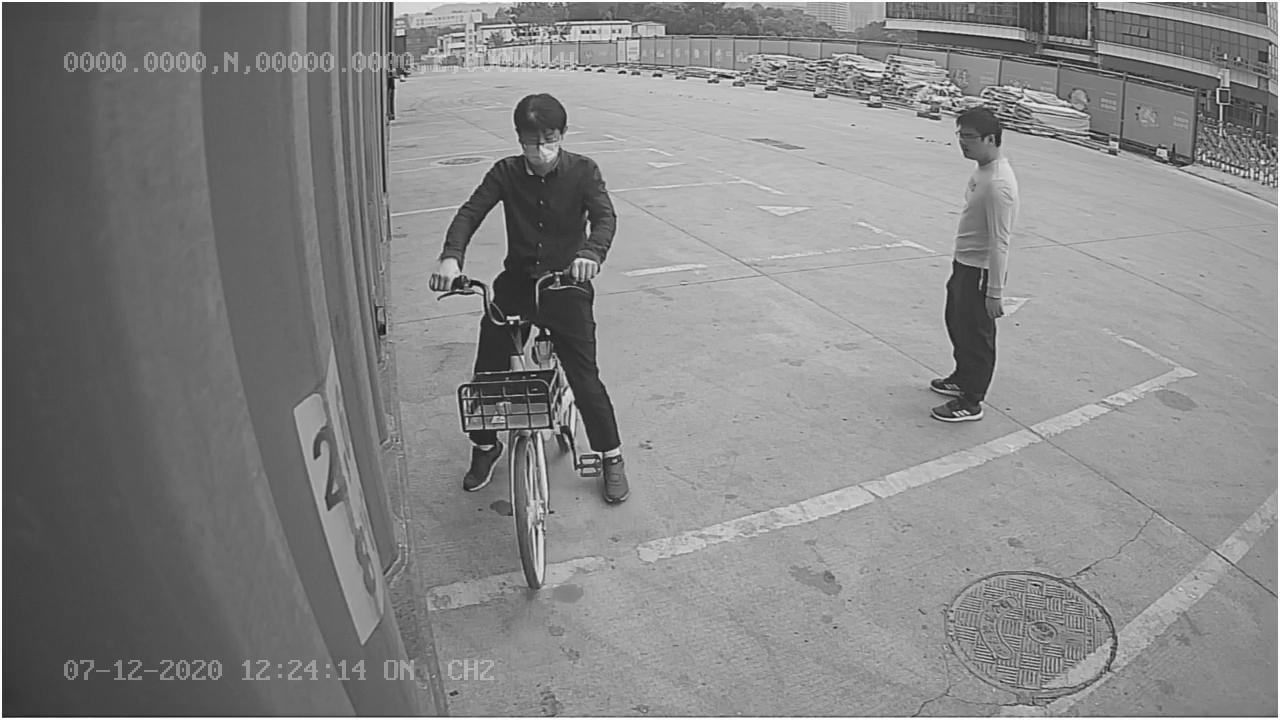person: (925, 106, 1020, 426)
